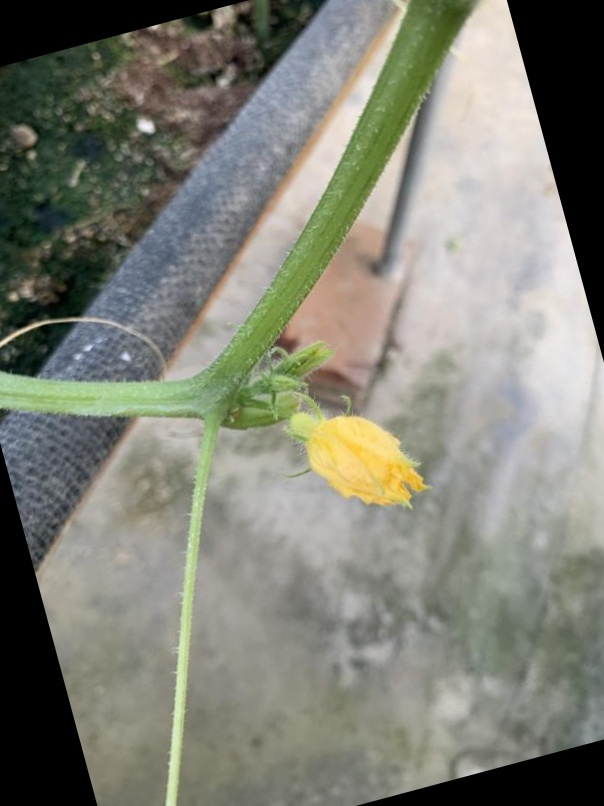bud: (277, 394, 452, 525)
